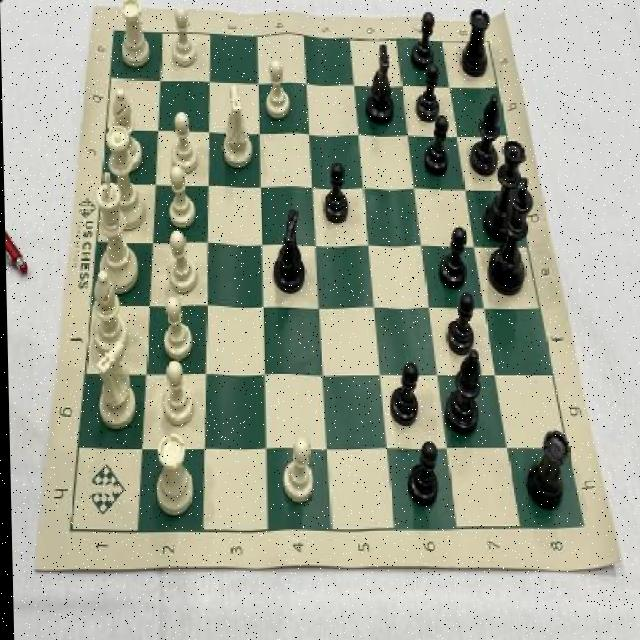bishop: (523, 429, 570, 509), (442, 351, 479, 434), (468, 94, 499, 178), (460, 8, 492, 77)
black-bishop: (485, 175, 533, 297)
black-king: (271, 208, 308, 294), (364, 41, 395, 128)
black-knight: (386, 360, 420, 428), (404, 440, 437, 508), (443, 294, 477, 358), (438, 223, 469, 291), (320, 160, 350, 223), (422, 114, 450, 177), (415, 63, 443, 122), (411, 11, 436, 69)
black-pawn: (483, 138, 529, 242)
black-rook: (89, 272, 127, 357), (109, 88, 143, 172)
white-bishop: (94, 172, 138, 297)
white-king: (91, 342, 138, 428), (221, 83, 254, 168)
white-knight: (156, 362, 194, 428), (156, 297, 193, 364), (161, 229, 199, 294), (280, 440, 314, 509), (168, 110, 199, 174), (164, 166, 195, 229), (169, 6, 197, 71), (263, 58, 291, 122)
white-pawn: (104, 123, 147, 232)
white-queen: (152, 434, 193, 518), (118, 0, 151, 66)
